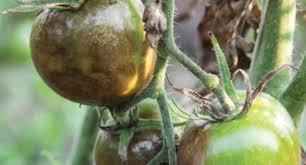tomato late blight: (30, 1, 167, 108), (166, 56, 300, 165), (88, 76, 171, 165)
